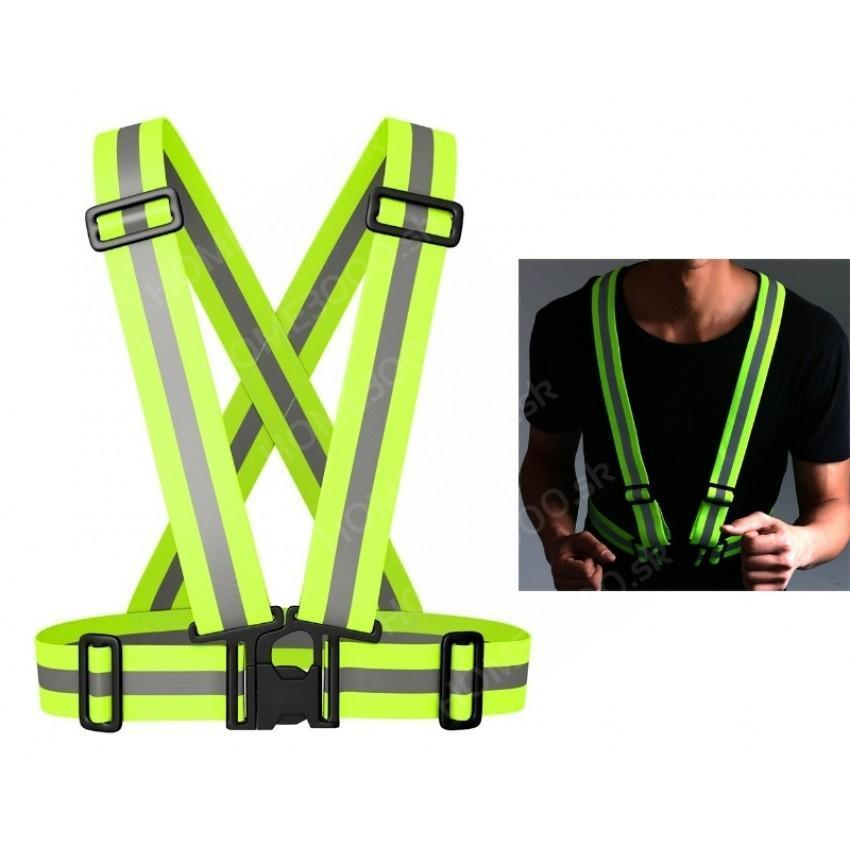Vest: (579, 273, 785, 566)
